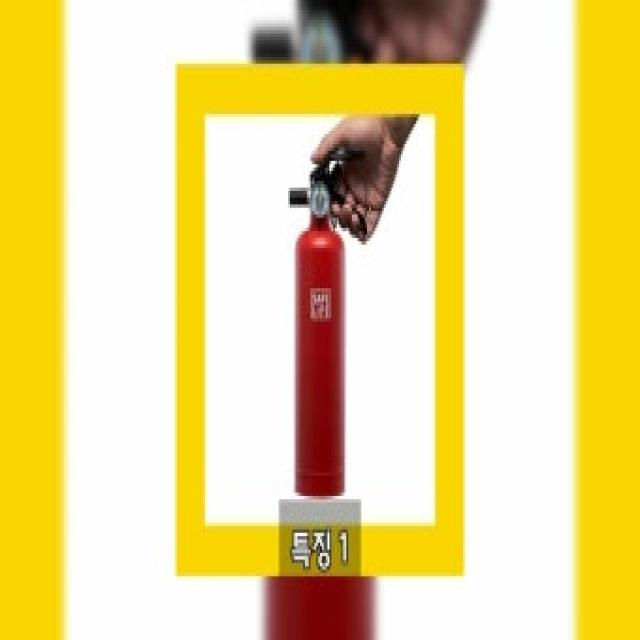pressure gauge: (309, 181, 331, 217)
